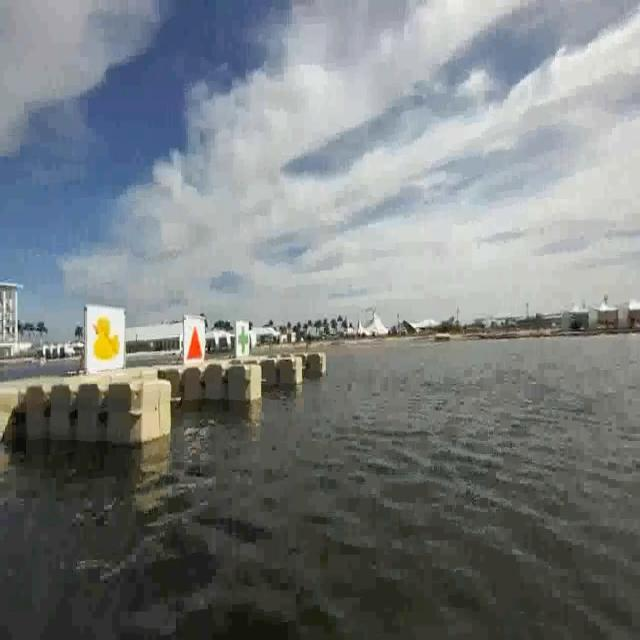blue-cross: (235, 324, 252, 361)
yellow-duck: (85, 302, 125, 370)
